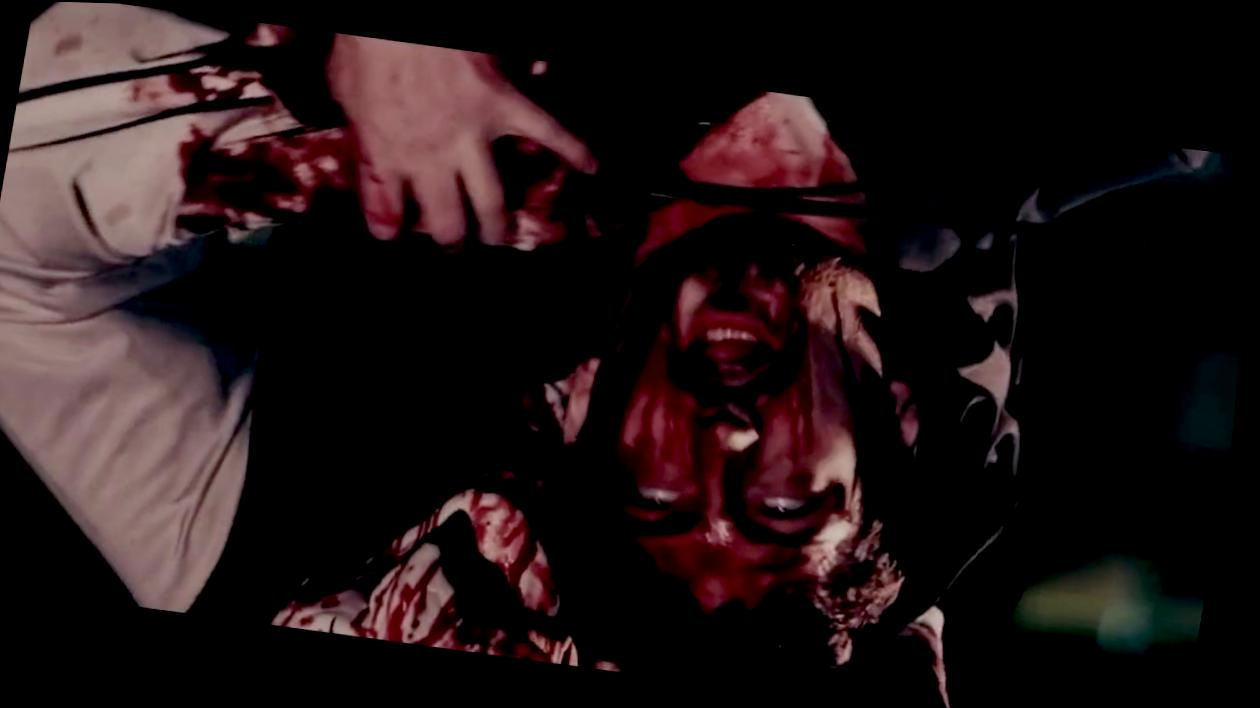Fire: (283, 164, 913, 671), (131, 21, 407, 244), (680, 89, 860, 182)
